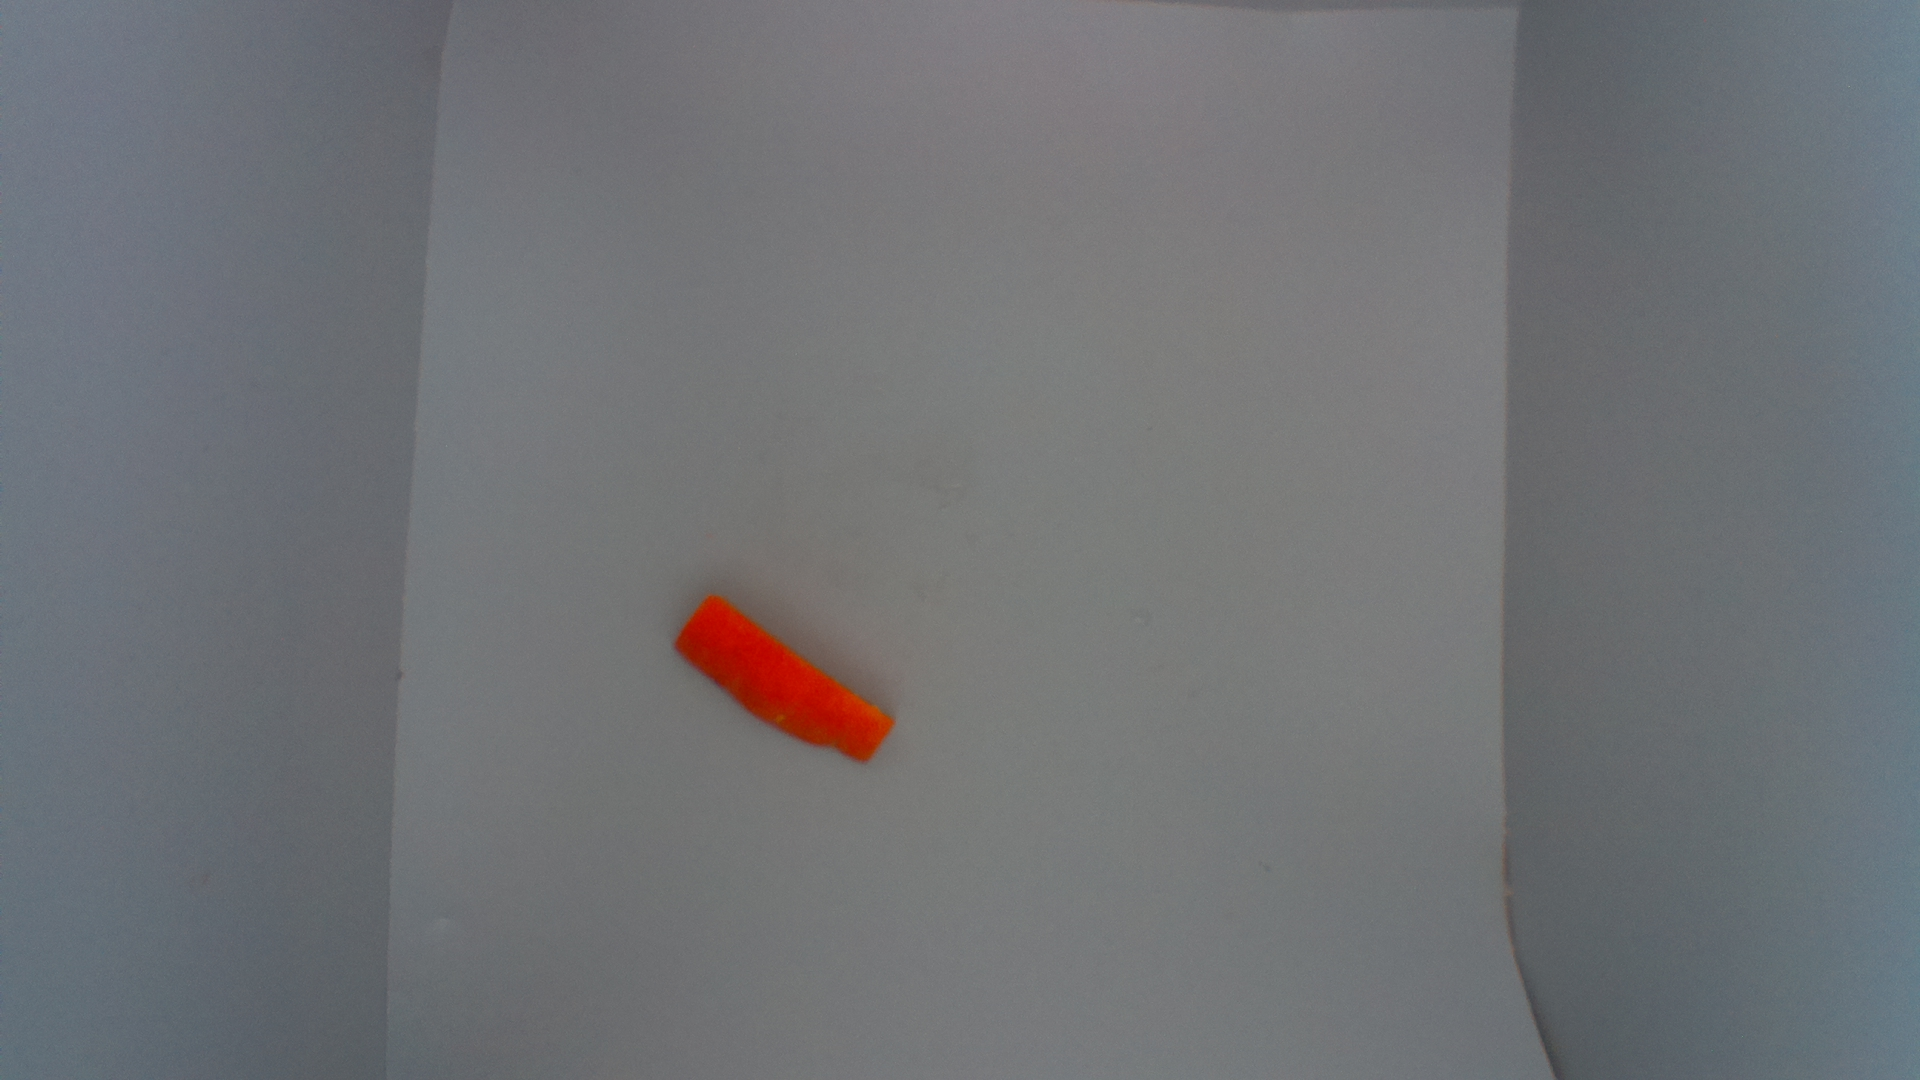carrot: (671, 593, 906, 771)
